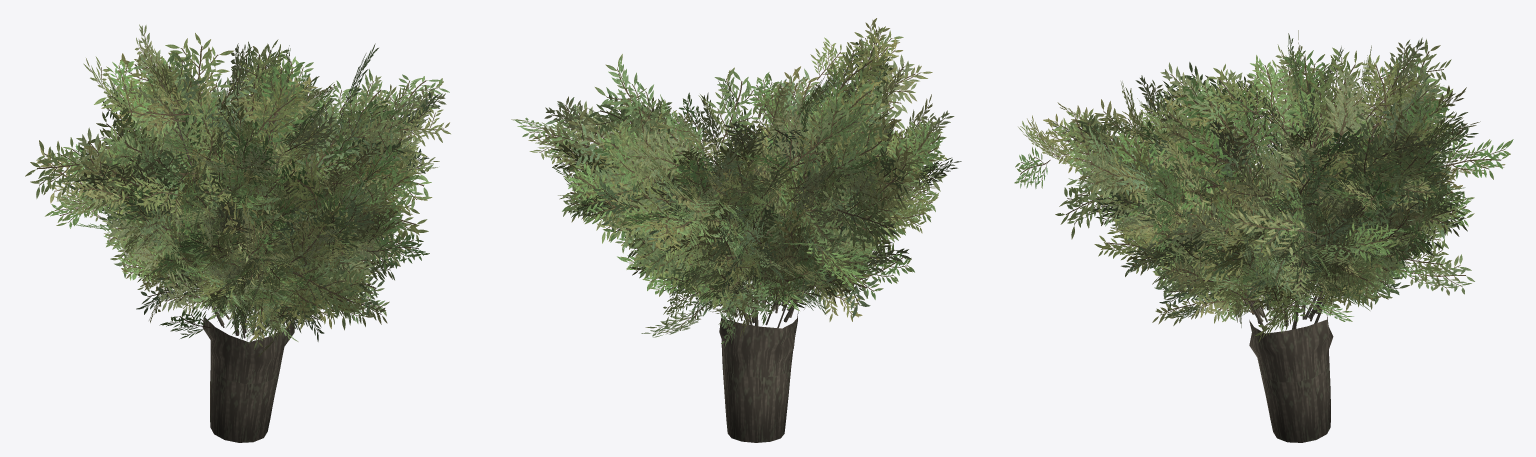
File: vrba_hlavata_2.glb
The picture shows the model from 3 angles, left to right: view 1: azimuth 30°, elevation 25°; view 2: azimuth 150°, elevation 25°; view 3: azimuth 270°, elevation 25°; orthographic projection.
Visible parts, largest first — view 1: vrba_hlavata_2; view 2: vrba_hlavata_2; view 3: vrba_hlavata_2.
Part boxes in pixels (box(x1,y1,x2,y2)): vrba_hlavata_2: box(25, 24, 450, 442); vrba_hlavata_2: box(511, 18, 961, 442); vrba_hlavata_2: box(1014, 30, 1513, 442).
Size of the model in its own units: 9.21 by 7.65 by 9.43.
2 materials, 2 textured.
